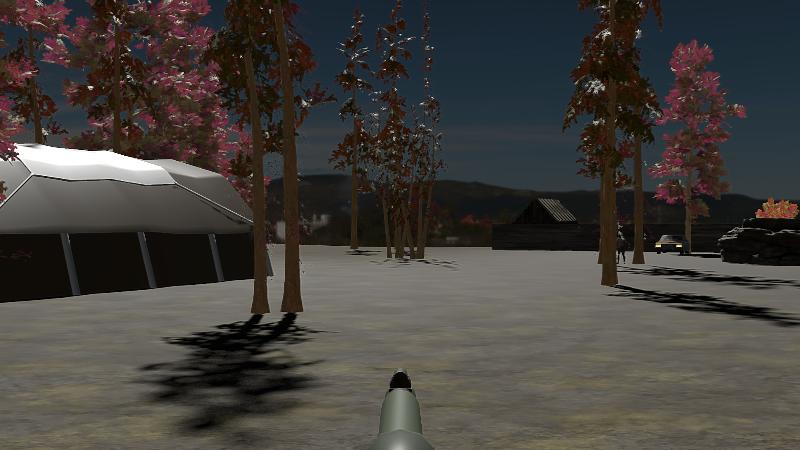House: (515, 196, 578, 226)
car: (654, 233, 690, 255)
